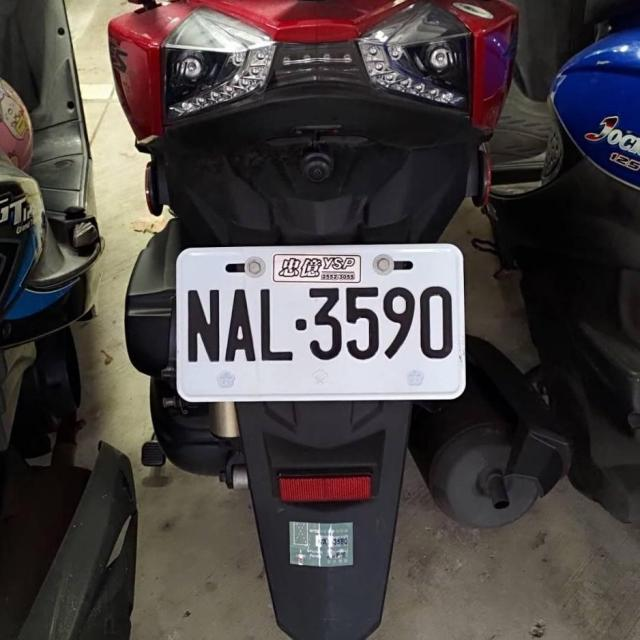W: (171, 239, 466, 402)
